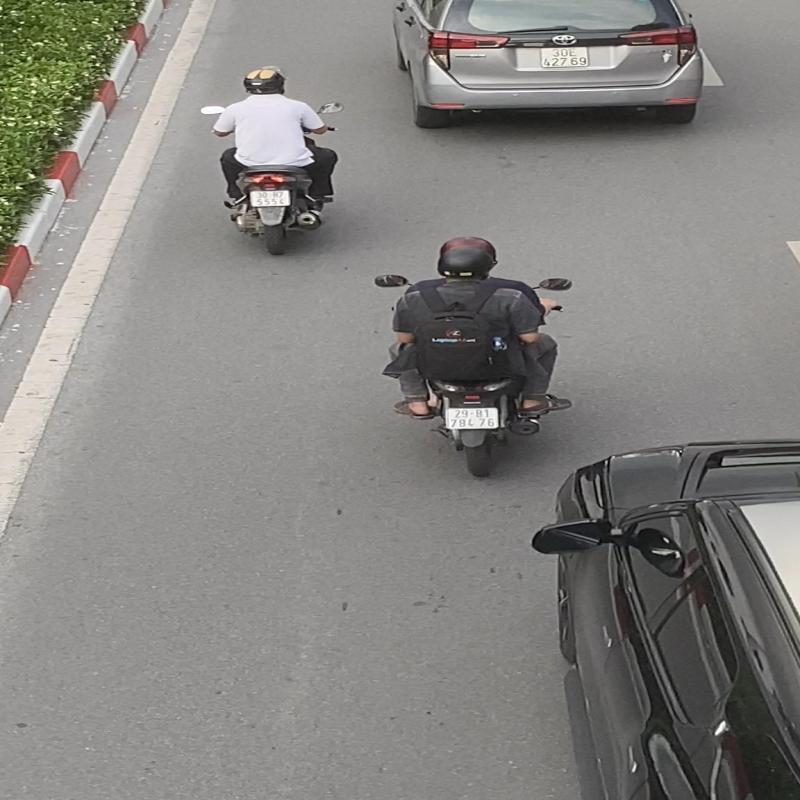helmet: (438, 245, 497, 278), (242, 68, 287, 94)
licenseplate: (444, 407, 500, 430), (250, 190, 290, 208)
motorcyclist: (388, 236, 572, 478), (213, 68, 340, 256)
